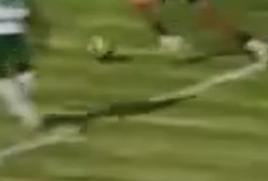ball: (80, 27, 125, 65)
